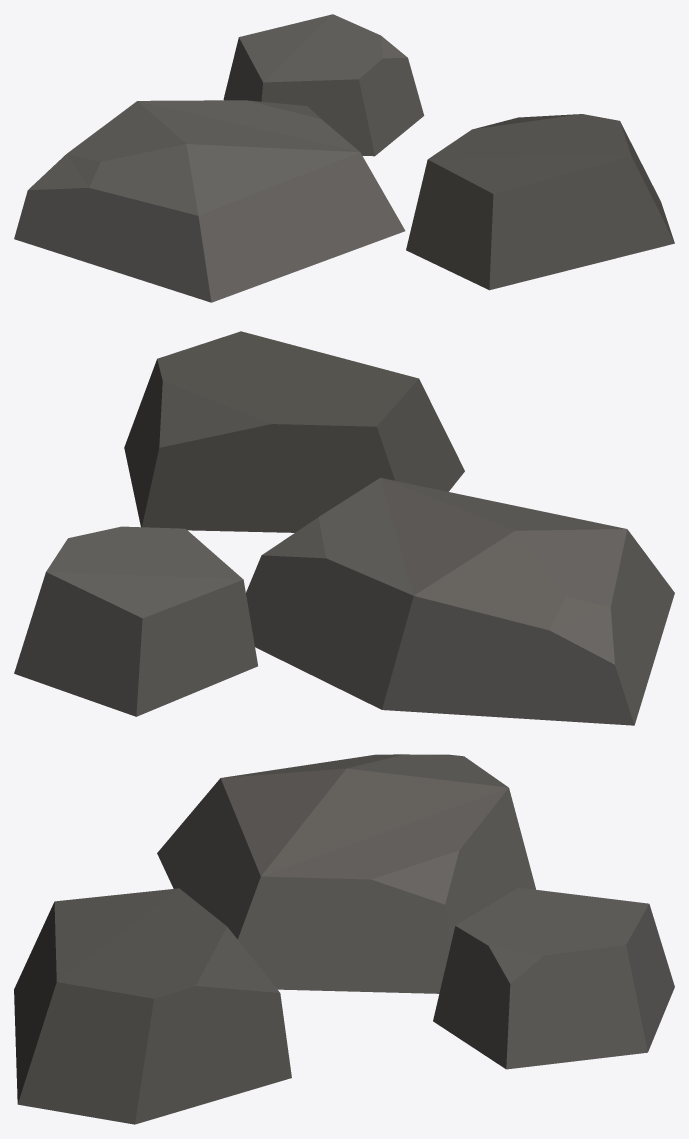
Rendered from prop_path_rocks.gltf.
3 renders of one model, top to bottom at view 1: azimuth 30°, elevation 25°; view 2: azimuth 150°, elevation 25°; view 3: azimuth 270°, elevation 25°, orthographic. The views are drawn at different scales.
Parts seen in each view (by area): view 1: prop_path_rocks; view 2: prop_path_rocks; view 3: prop_path_rocks.
Boxes of the visible parts, x1,y1,x2,y2 form: prop_path_rocks: [14, 14, 674, 302]; prop_path_rocks: [14, 331, 674, 725]; prop_path_rocks: [14, 754, 674, 1124].
Bounding box in the file's own units: 0.935 × 0.1562 × 0.8099.
1 material, 1 textured.
